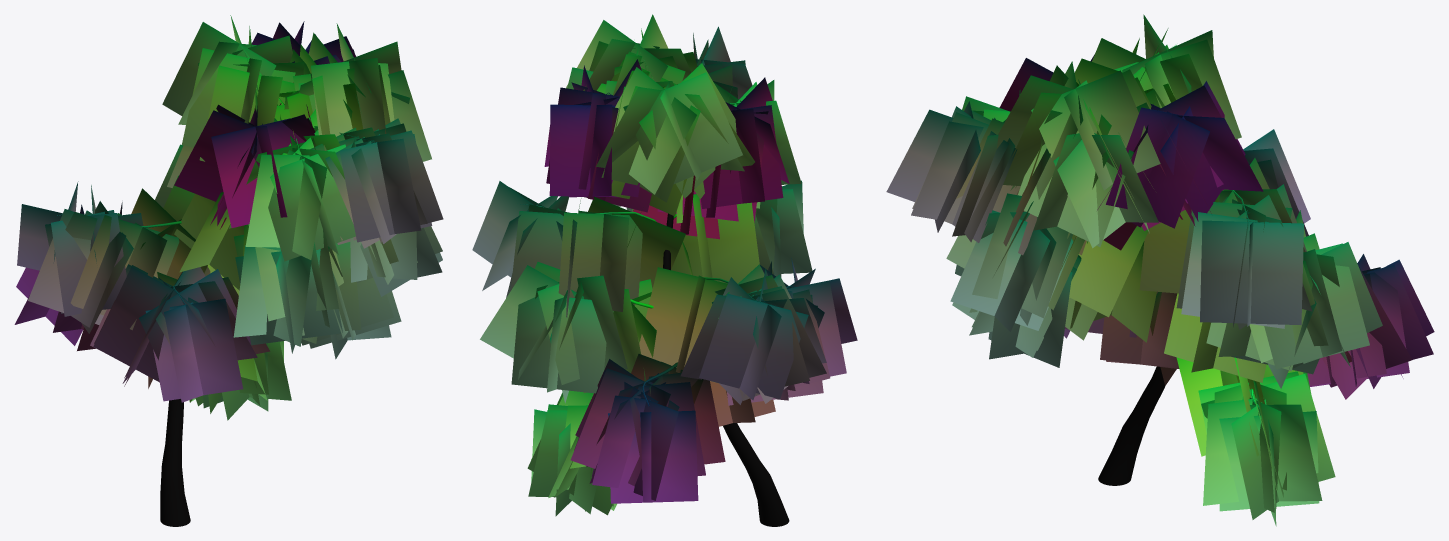
The model's file is URP_P13_Tree_4_LOD_0.fbx.
The picture shows the model from 3 angles, left to right: view 1: azimuth 30°, elevation 25°; view 2: azimuth 150°, elevation 25°; view 3: azimuth 270°, elevation 25°; orthographic projection. The views are drawn at different scales.
Visible parts, largest first — view 1: Tree_4_LOD_0; view 2: Tree_4_LOD_0; view 3: Tree_4_LOD_0.
Boxes of the visible parts, <box> form: Tree_4_LOD_0: <box>14,15,443,526</box>; Tree_4_LOD_0: <box>472,14,857,526</box>; Tree_4_LOD_0: <box>886,14,1434,526</box>.
Size of the model in its own units: 447 by 557 by 558.
